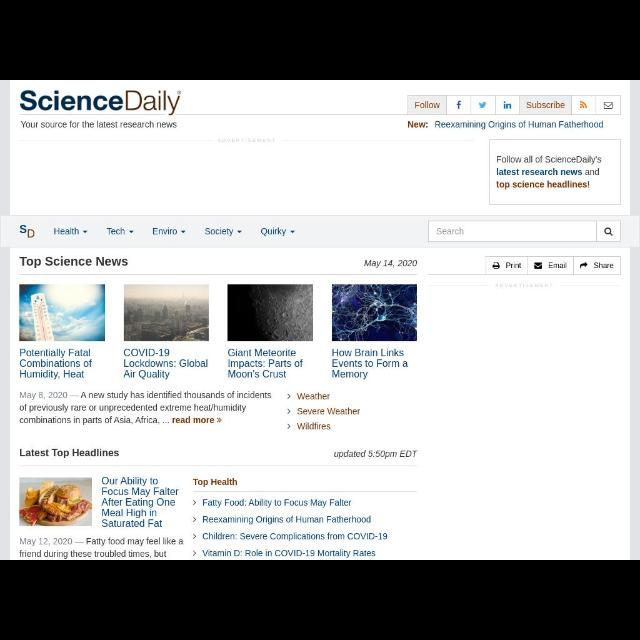button: (598, 221, 620, 241), (447, 96, 471, 114), (471, 96, 495, 114), (496, 96, 520, 114), (572, 96, 596, 114), (596, 96, 620, 114)
icon: (604, 228, 614, 236), (580, 262, 588, 270), (534, 262, 542, 270), (492, 262, 500, 270), (604, 101, 612, 109), (287, 393, 291, 399), (287, 408, 291, 414), (193, 500, 197, 506), (193, 533, 197, 539), (82, 230, 88, 233), (128, 230, 134, 233), (181, 230, 187, 233), (236, 230, 242, 233), (290, 230, 296, 233), (192, 550, 195, 556), (193, 518, 197, 522), (288, 423, 290, 429)
image: (19, 284, 105, 342), (227, 284, 313, 342), (332, 284, 418, 342), (124, 284, 208, 342), (20, 90, 182, 116), (19, 478, 92, 526), (19, 224, 35, 238), (503, 101, 512, 109), (579, 101, 587, 109), (456, 100, 462, 110), (479, 102, 487, 108)
input: (428, 221, 596, 241)
spinner: (205, 227, 242, 237), (260, 227, 296, 237), (54, 227, 88, 235), (152, 228, 186, 235), (107, 227, 135, 235)
text: (20, 392, 272, 424), (102, 477, 178, 527), (496, 156, 602, 188), (20, 538, 184, 558), (124, 348, 208, 379), (332, 348, 408, 379), (228, 348, 304, 378), (20, 348, 92, 379), (408, 120, 604, 130), (202, 532, 388, 542), (202, 498, 352, 508), (202, 550, 376, 558), (203, 516, 371, 524), (18, 256, 128, 268), (20, 448, 119, 458), (21, 122, 177, 128), (334, 450, 418, 460), (193, 478, 237, 488), (364, 260, 418, 268), (298, 408, 360, 414), (526, 101, 566, 109), (204, 227, 233, 237), (296, 392, 330, 400), (297, 422, 331, 430), (436, 227, 464, 235), (414, 101, 440, 109), (54, 227, 80, 235), (262, 228, 286, 236), (152, 228, 178, 235), (107, 228, 125, 235), (548, 262, 568, 268), (594, 263, 614, 269), (506, 262, 522, 268)
textbutton: (520, 96, 572, 114), (528, 257, 574, 275), (574, 257, 620, 275), (486, 257, 528, 275), (408, 96, 447, 114)
toolbar: (0, 216, 638, 248)
